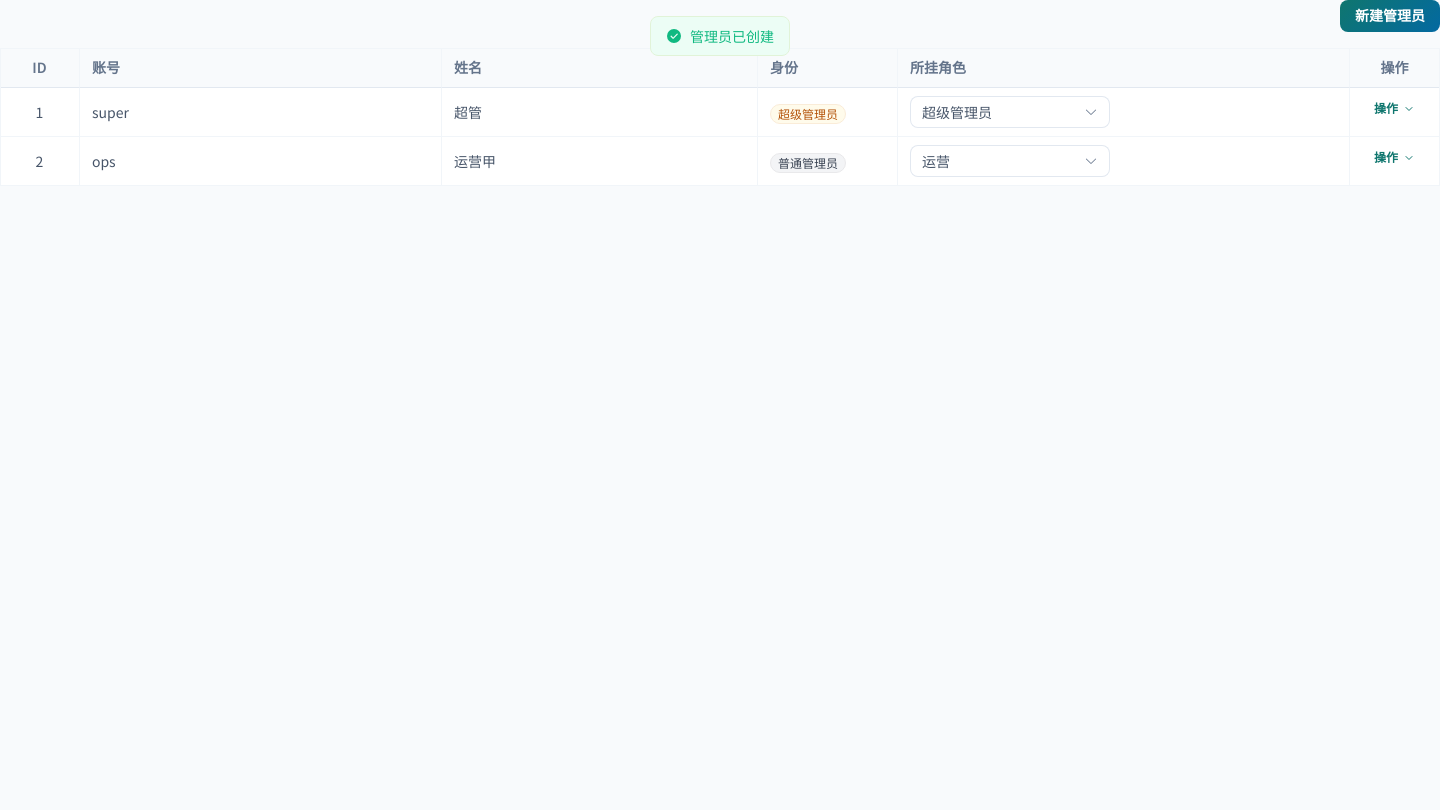
it: 管理员管理页 › 新建：口令不合规在入口被拦下（不发请求）
Click the button "新建管理员" at (1390, 16), box [1340,0,1439,32]
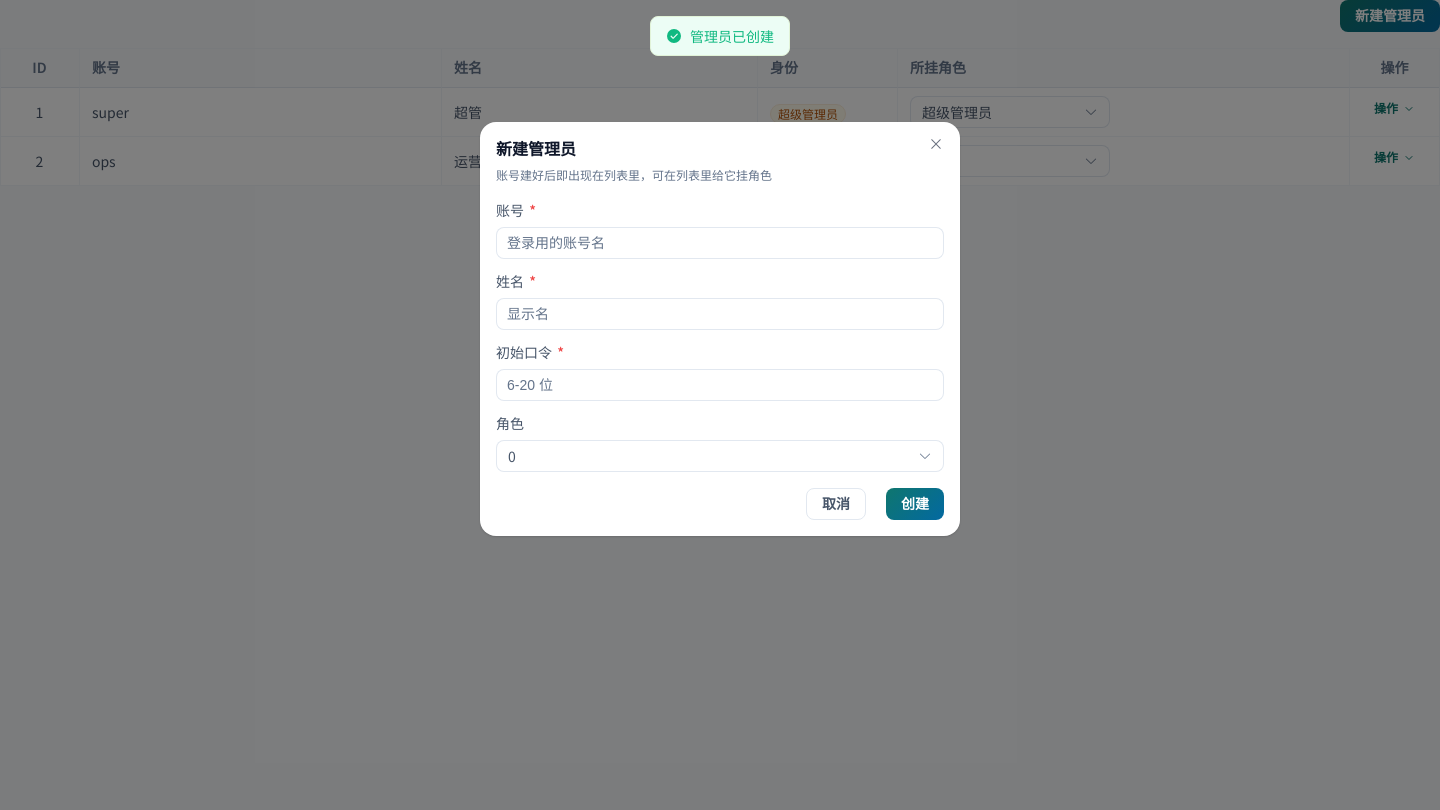
Type "newops" into the field labelled "账号 *" at (720, 242), box [507,228,933,258]
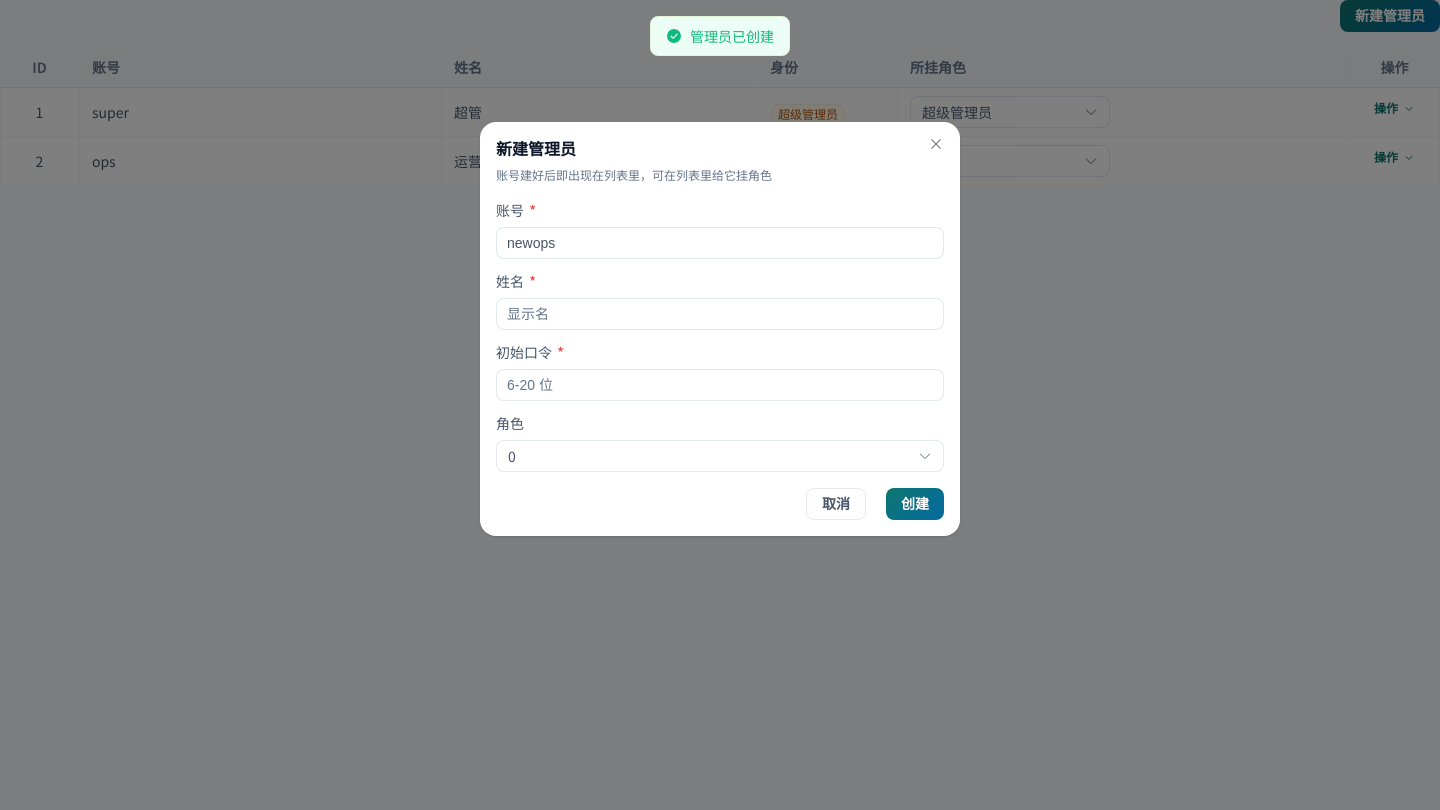
Type "新运营" into the field labelled "姓名 *" at (720, 314), box [507,298,933,328]
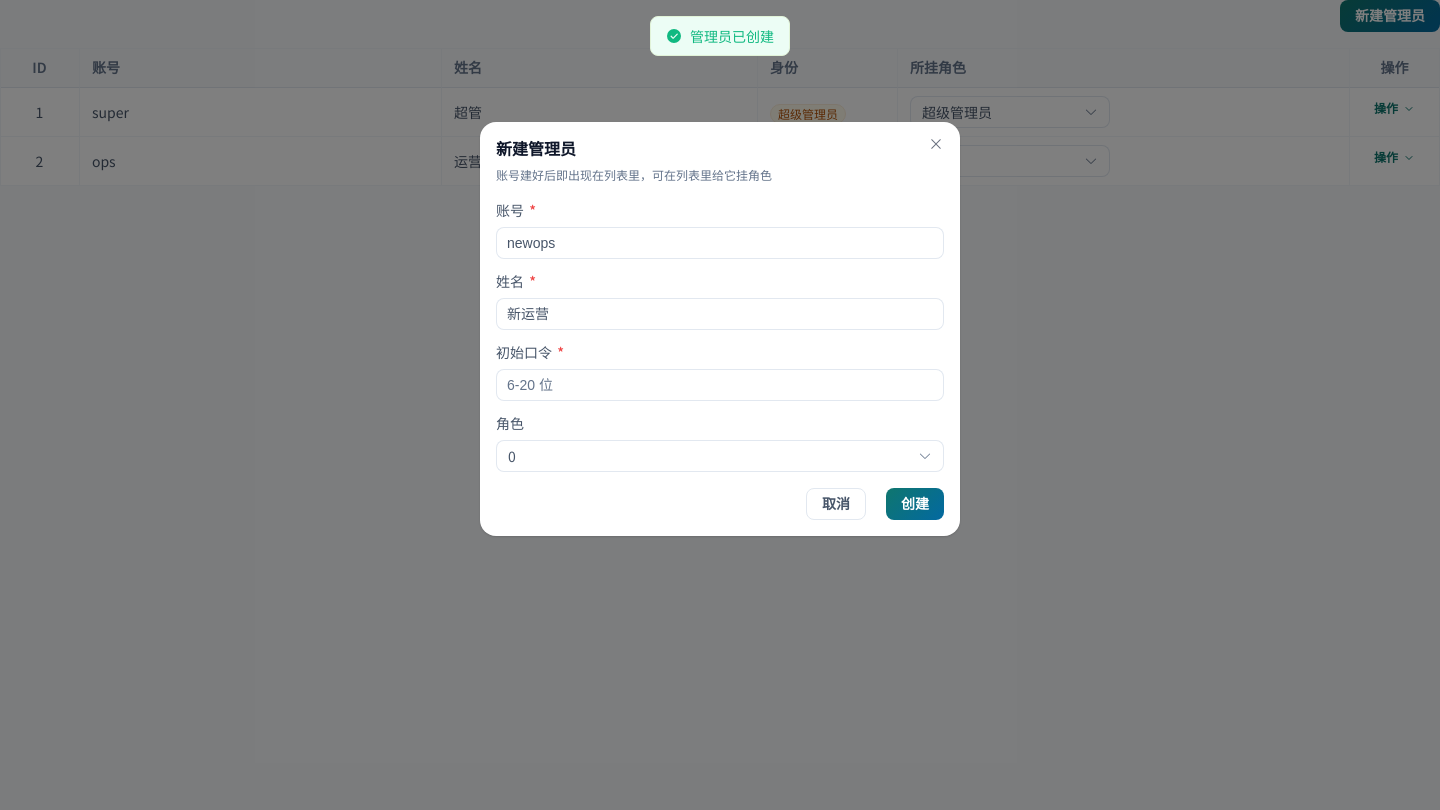
Type "123" into the password field labelled "初始口令 *" at (720, 384), box [507,370,933,400]
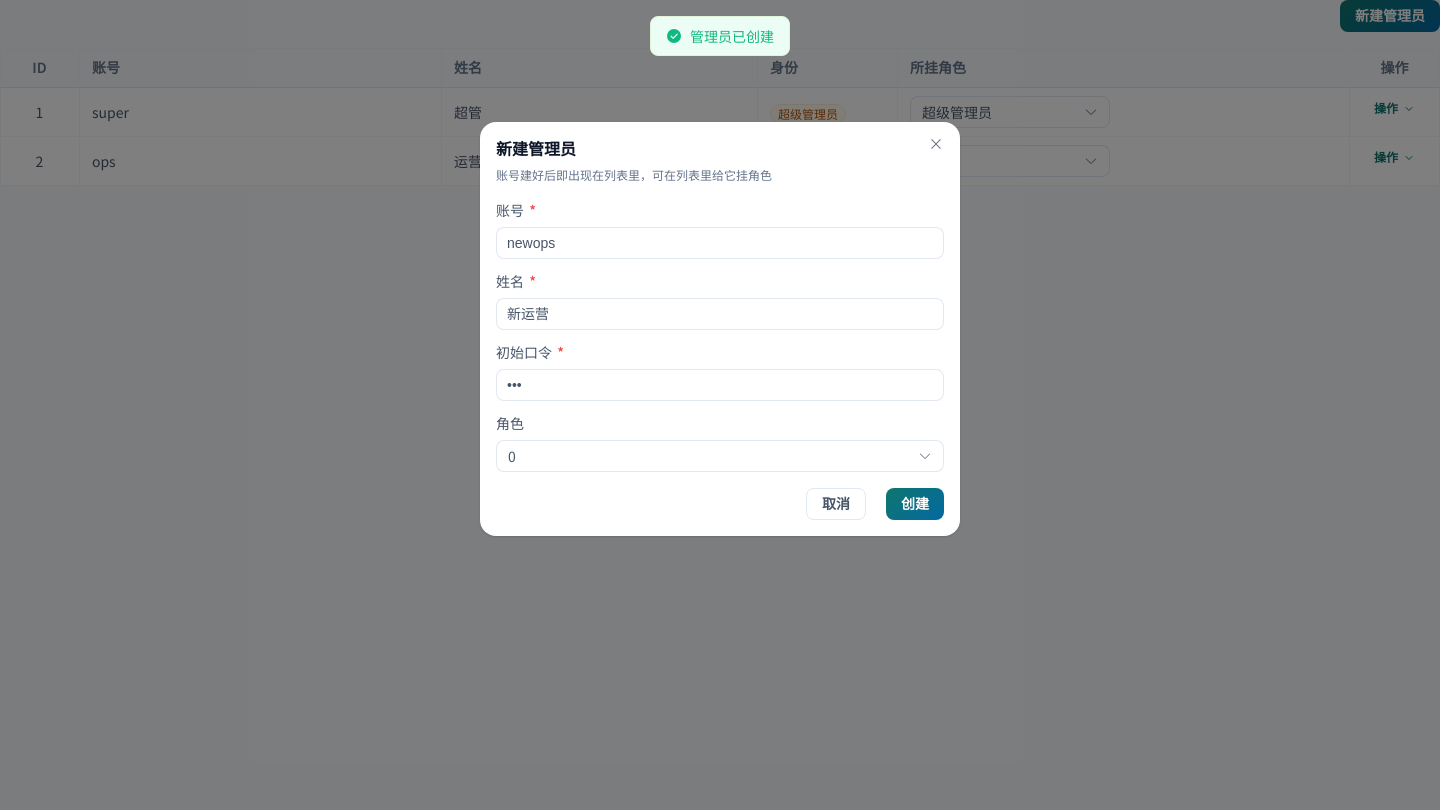
Click the button "创建" at (915, 504), box [886,488,944,520]
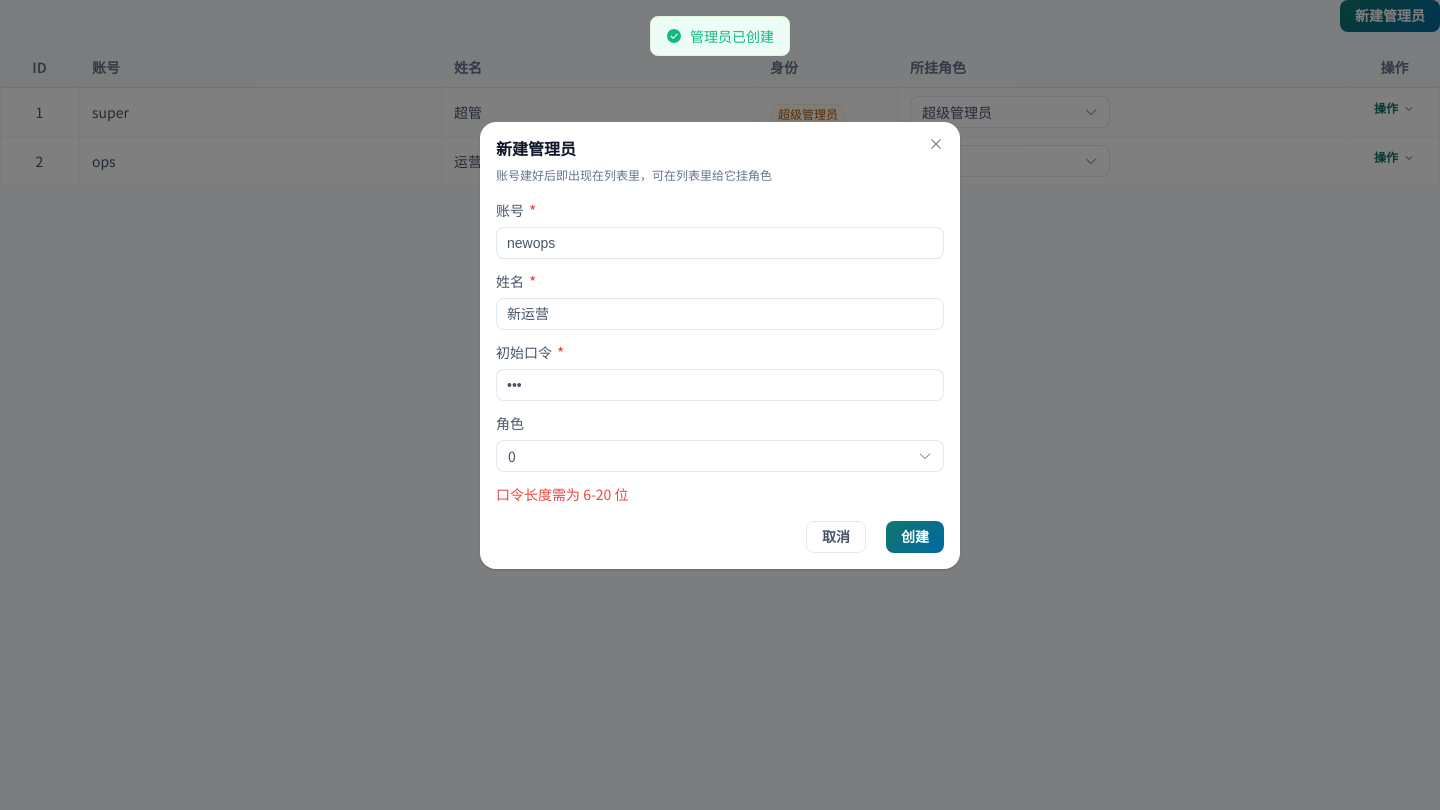
Now the message with class "account-form-error" shows "6-20", box [496,484,628,504]
